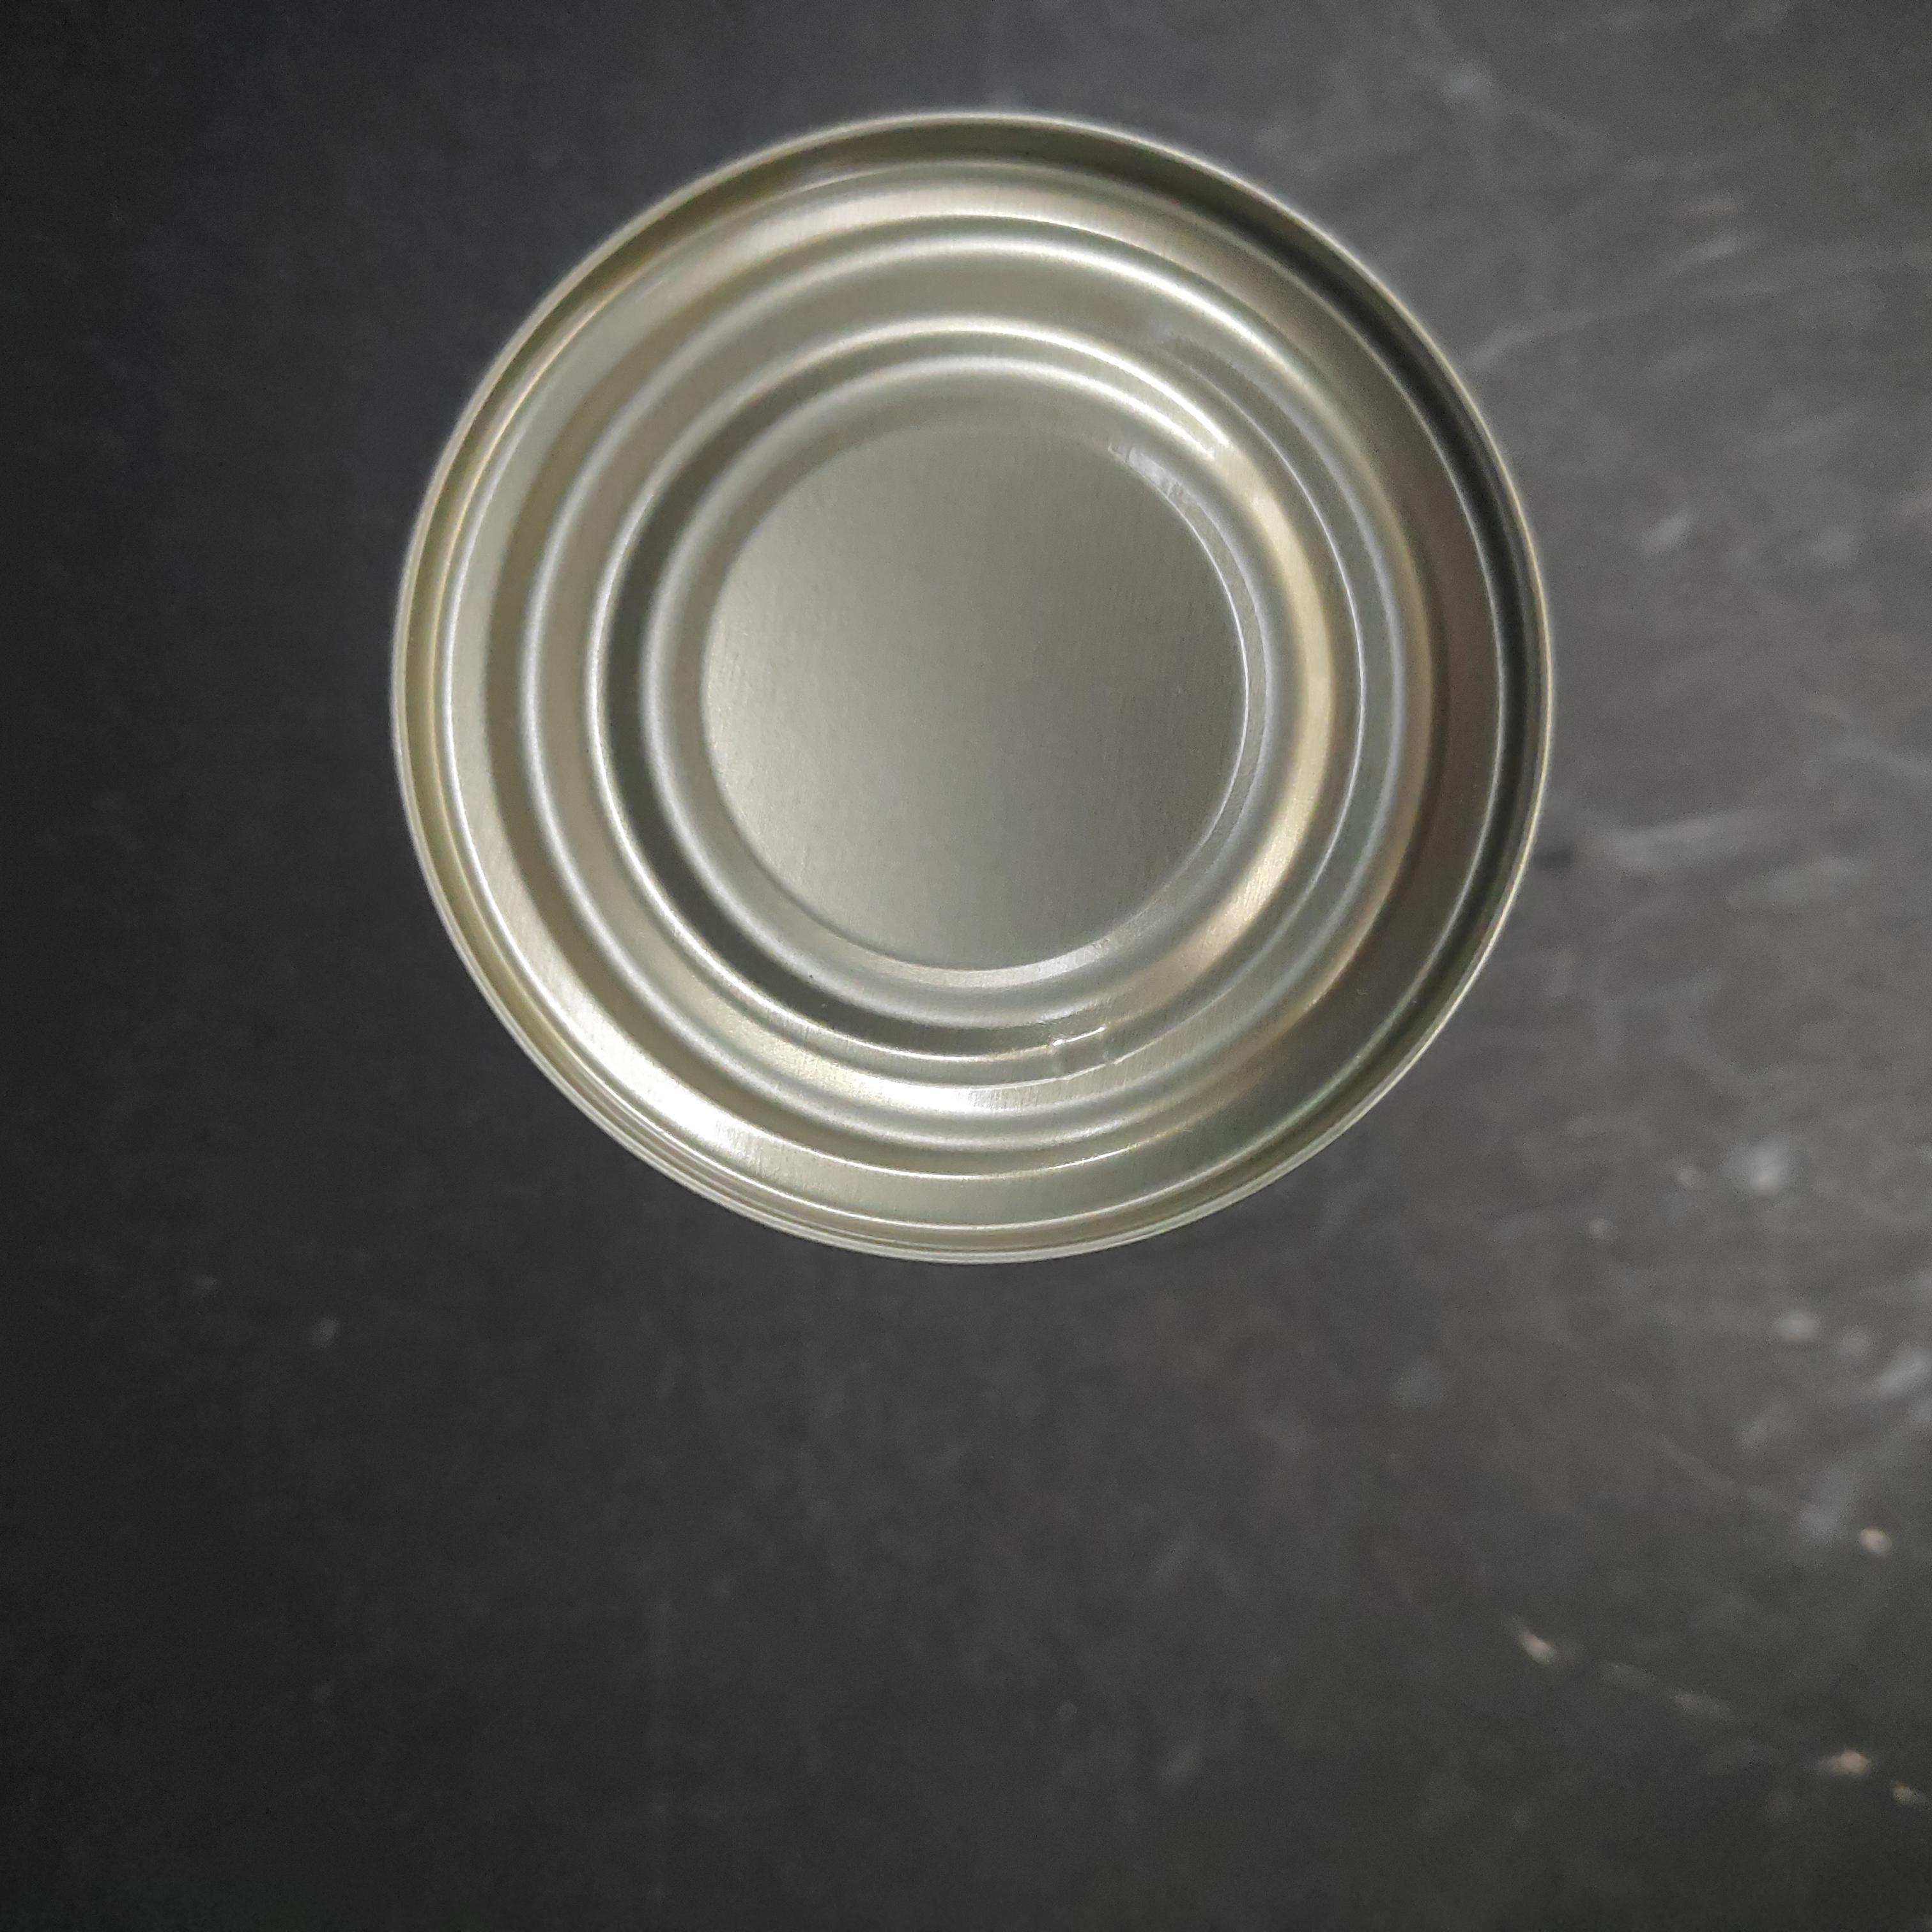No defect: (662, 389, 1828, 1562)
